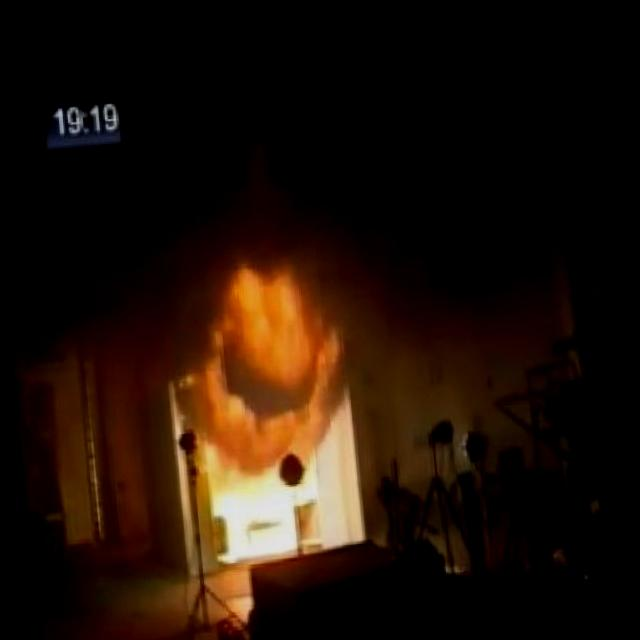fire: (178, 241, 368, 456)
